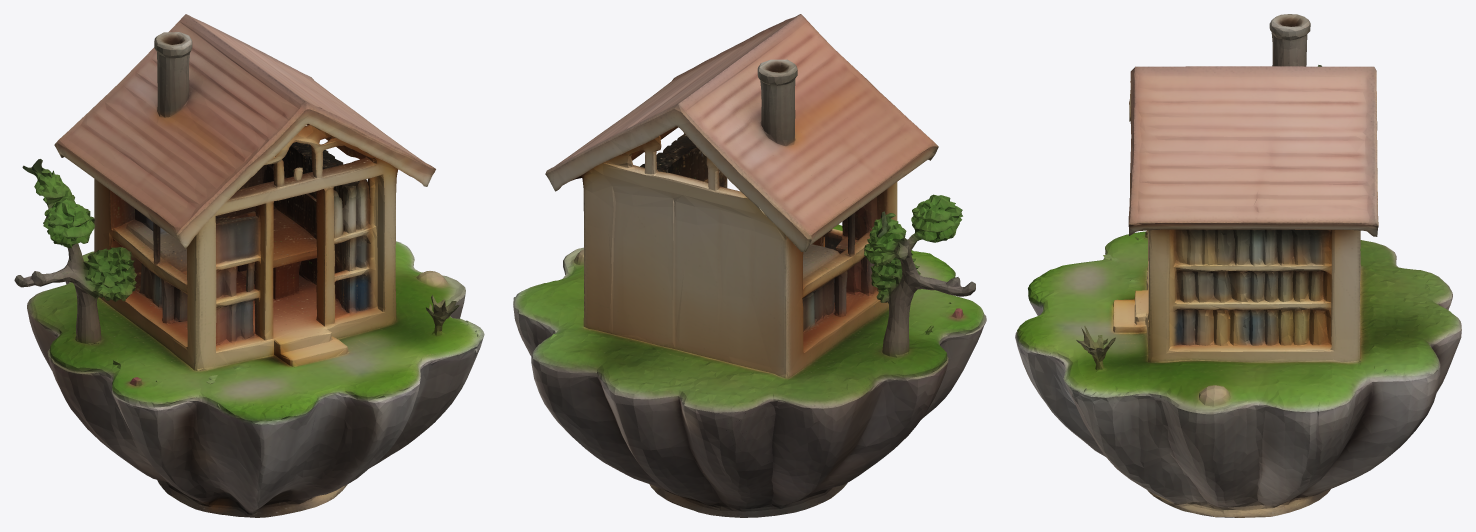
Rendered from house.glb.
3 views of the same model, side by side, from view 1: azimuth 30°, elevation 25°; view 2: azimuth 150°, elevation 25°; view 3: azimuth 270°, elevation 25° (orthographic). The views are drawn at different scales.
Parts seen in each view (by area): view 1: world; view 2: world; view 3: world.
Boxes of the visible parts, x1,y1,x2,y2 form: world: [14, 14, 484, 517]; world: [513, 14, 986, 517]; world: [1015, 14, 1461, 517].
Size of the model in its own units: 0.7098 by 0.6955 by 0.6538.
Materials: 1 (1 with a texture image).
